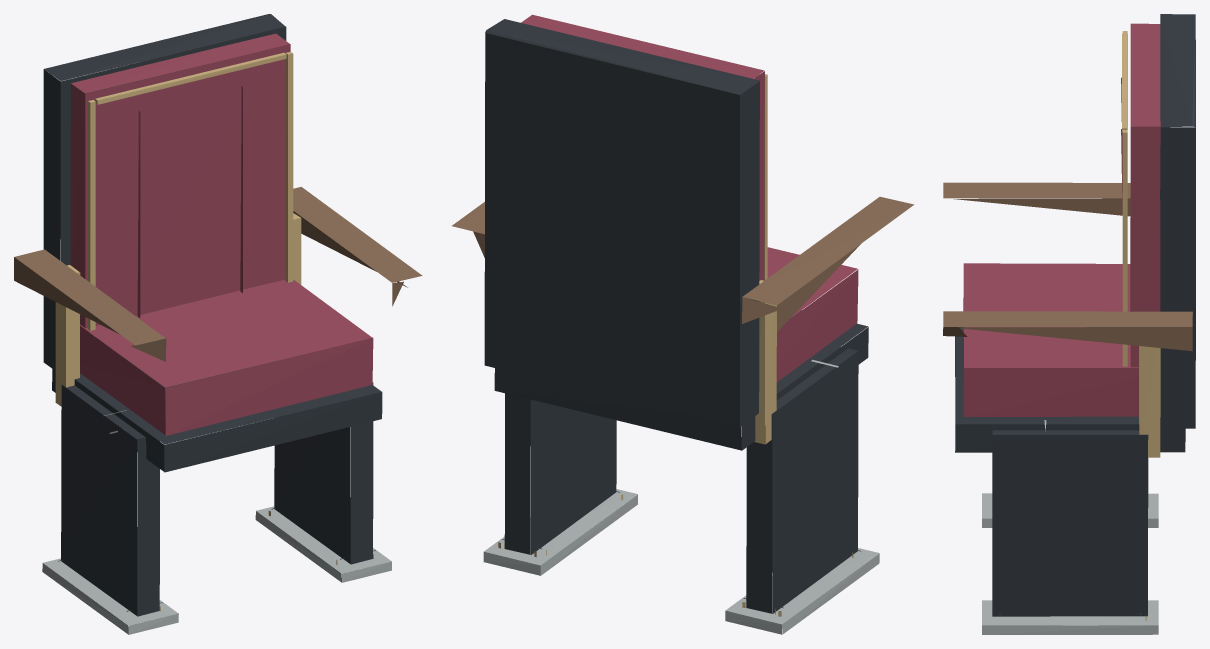
Rendered from sitz_lo.glb.
The picture shows the model from 3 angles, left to right: view 1: azimuth 30°, elevation 25°; view 2: azimuth 150°, elevation 25°; view 3: azimuth 270°, elevation 25°; orthographic projection. The views are drawn at different scales.
Parts seen in each view (by area): view 1: abandoned-cinema-and-projection-booth-auditorium-seat; view 2: abandoned-cinema-and-projection-booth-auditorium-seat; view 3: abandoned-cinema-and-projection-booth-auditorium-seat.
Part boxes in pixels (x1,y1,x2,y2): abandoned-cinema-and-projection-booth-auditorium-seat: (14, 14, 422, 634); abandoned-cinema-and-projection-booth-auditorium-seat: (452, 14, 914, 634); abandoned-cinema-and-projection-booth-auditorium-seat: (943, 14, 1195, 634).
Size of the model in its own units: 0.626 by 1.01 by 0.4646.
